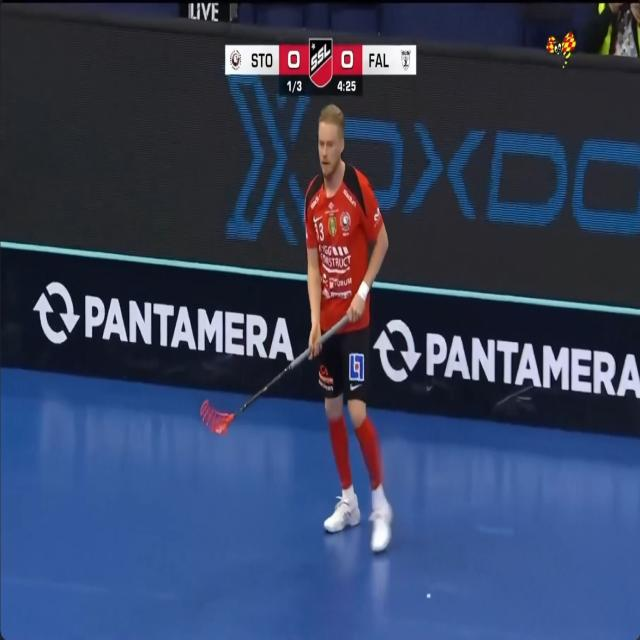player: (305, 104, 392, 552)
stick: (201, 348, 310, 433)
